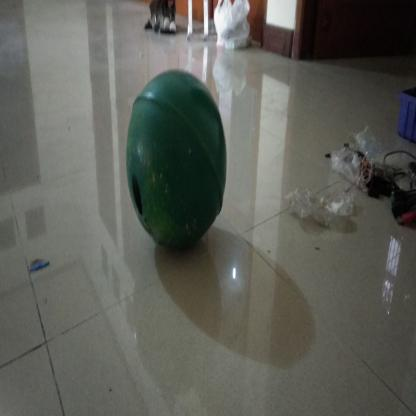green_buoy: (125, 67, 233, 255)
